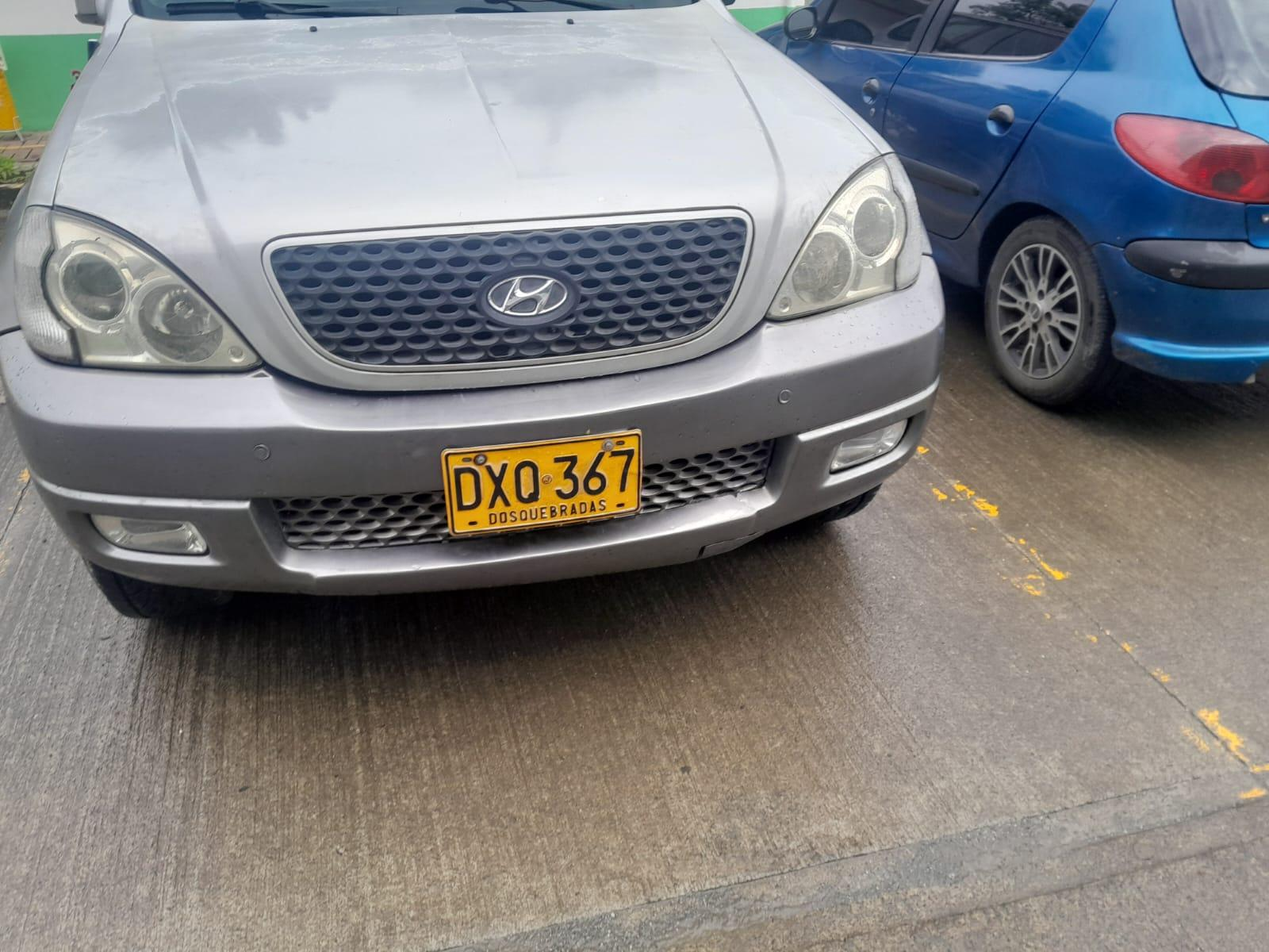placa: (443, 430, 642, 535)
